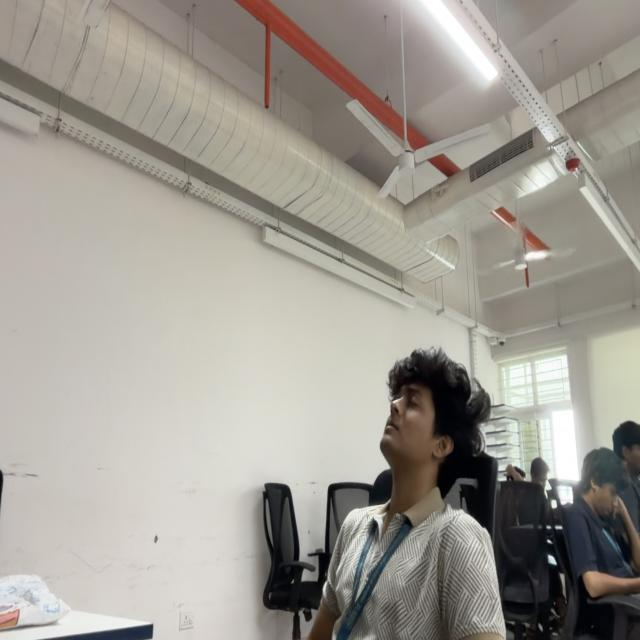kshitij: (380, 350, 488, 496)
